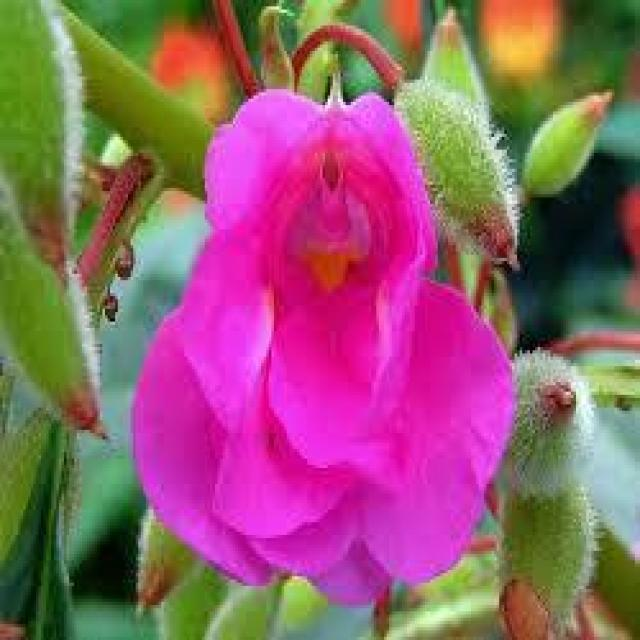organic waste: (105, 89, 522, 592)
